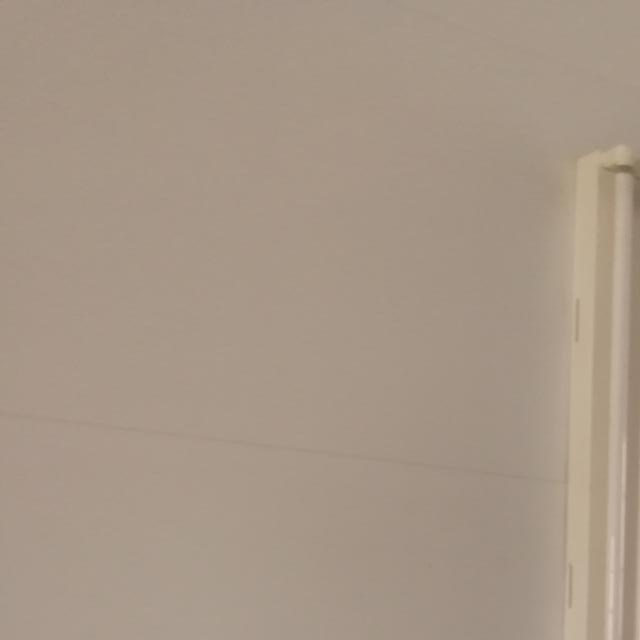fluorescent tube: (516, 117, 640, 640)
